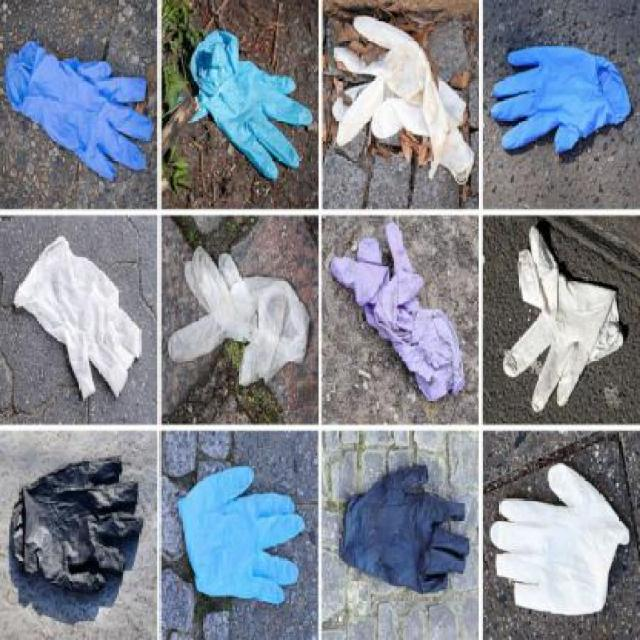glove: (333, 13, 475, 187), (501, 222, 632, 409), (491, 442, 629, 618), (332, 226, 465, 408), (170, 454, 310, 618), (6, 449, 142, 617), (167, 242, 308, 403), (335, 453, 473, 612), (13, 238, 147, 398), (484, 37, 631, 177), (188, 18, 309, 188), (4, 41, 150, 179)
